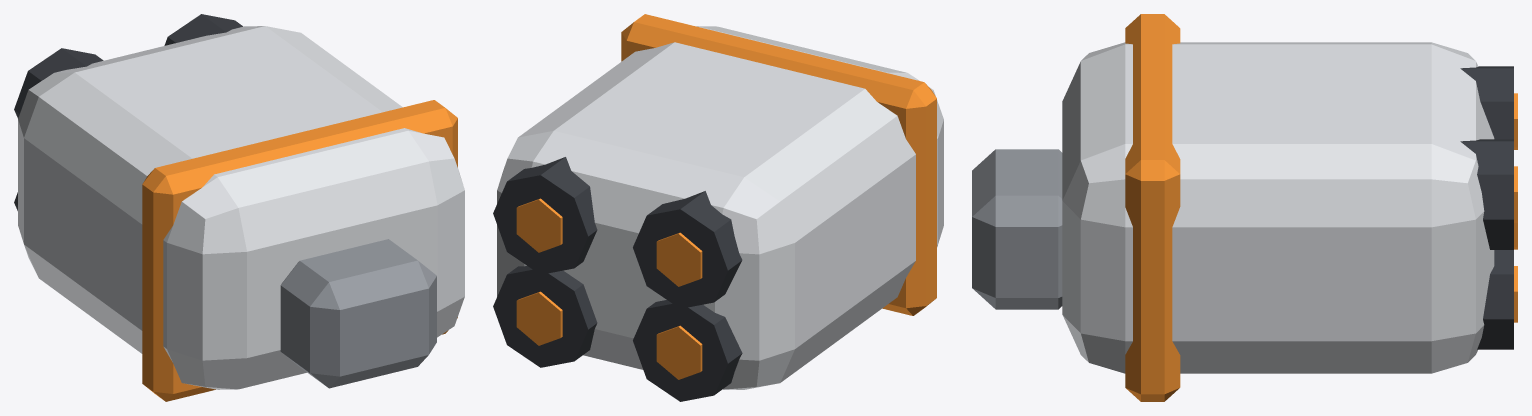
The model's file is rocket_launcher.glb.
The picture shows the model from 3 angles, left to right: view 1: azimuth 30°, elevation 25°; view 2: azimuth 150°, elevation 25°; view 3: azimuth 270°, elevation 25°; orthographic projection. The views are drawn at different scales.
Parts seen in each view (by area): view 1: rocket_launcher; view 2: rocket_launcher; view 3: rocket_launcher.
Part boxes in pixels (x1=…): rocket_launcher: x1=14, y1=14, x2=464, y2=401; rocket_launcher: x1=493, y1=14, x2=943, y2=401; rocket_launcher: x1=972, y1=14, x2=1517, y2=401.
Size of the model in its own units: 0.48 by 0.34 by 0.695.
